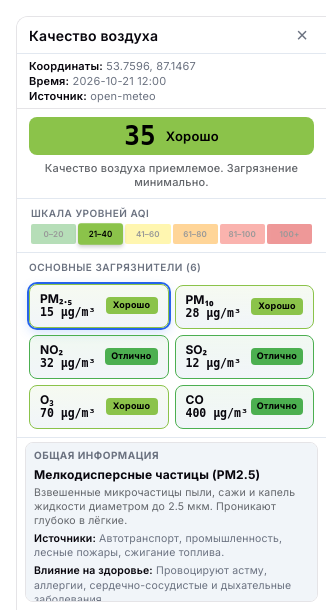
Test case: RightAirPanel Pinning (Фиксация и расфиксация загрязнителей по клику) › 4. Повторный клик по зафиксированному веществу расфиксирует его, и наведение снова работает
This screenshot has width=326, height=610.
Click the button with aria-label "NO₂: 32, норма: Отлично". click: (99, 357)
box: 29,335 -> 168,379
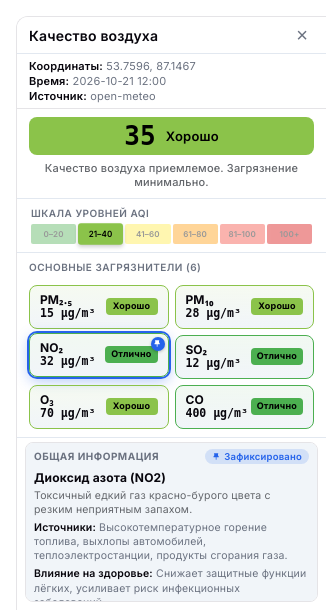
Result: the button with aria-label "NO₂: 32, норма: Отлично, зафиксировано" has class "pollutant-tile--pinned"
Click the button with aria-label "NO₂: 32, норма: Отлично, зафиксировано". click: (99, 355)
box: 29,333 -> 168,377
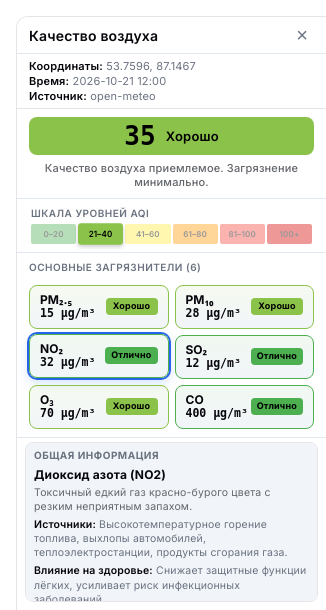
Result: the element with test id "pin-indicator-nitrogen_dioxide" is gone
Result: the element with test id "general-info-pinned-tag" is gone
Hover over the button with aria-label "O₃: 70, норма: Хорошо" at (99, 407), box 29,385 -> 168,429
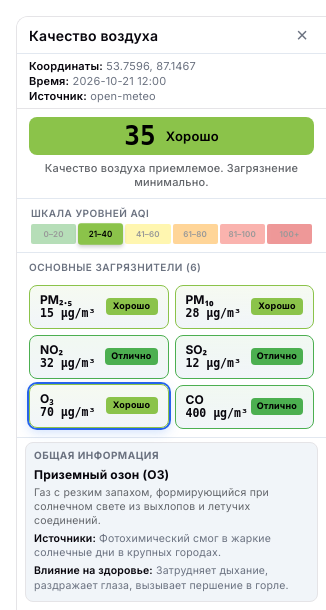
Result: the text "Приземный озон (O3)" is shown at 34,467 -> 169,482
